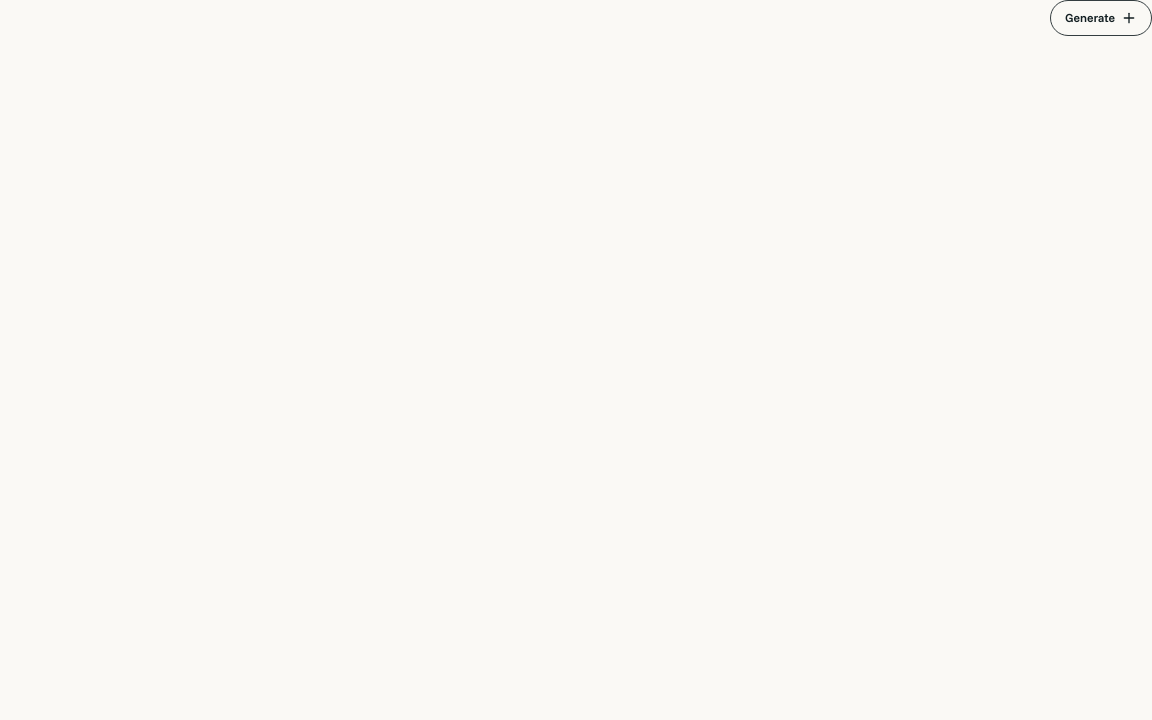
Scenario: QuickActionsMenu — the menu › groups the actions
Click the button at (1101, 18), box [1050,0,1151,36]
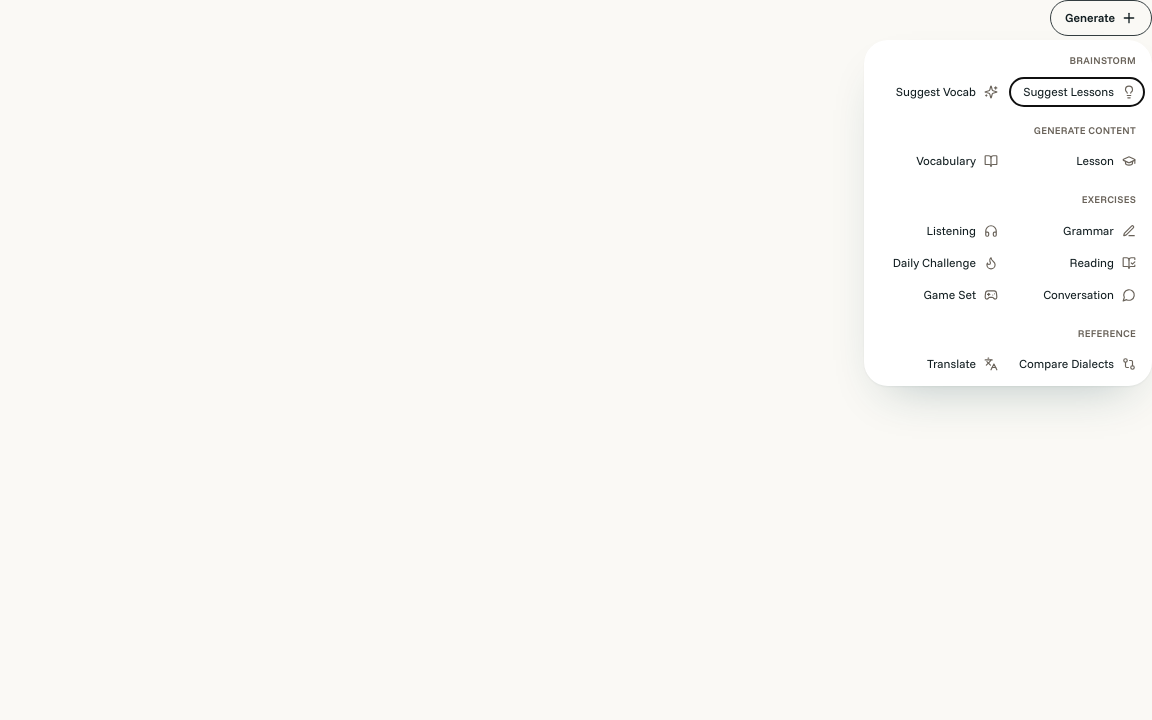
Expected: the text "Brainstorm" is shown, [1070,54,1136,67]
Expected: the text "Generate content" is shown, [1034,124,1136,137]
Expected: the text "Exercises" is shown, [1082,193,1136,206]
